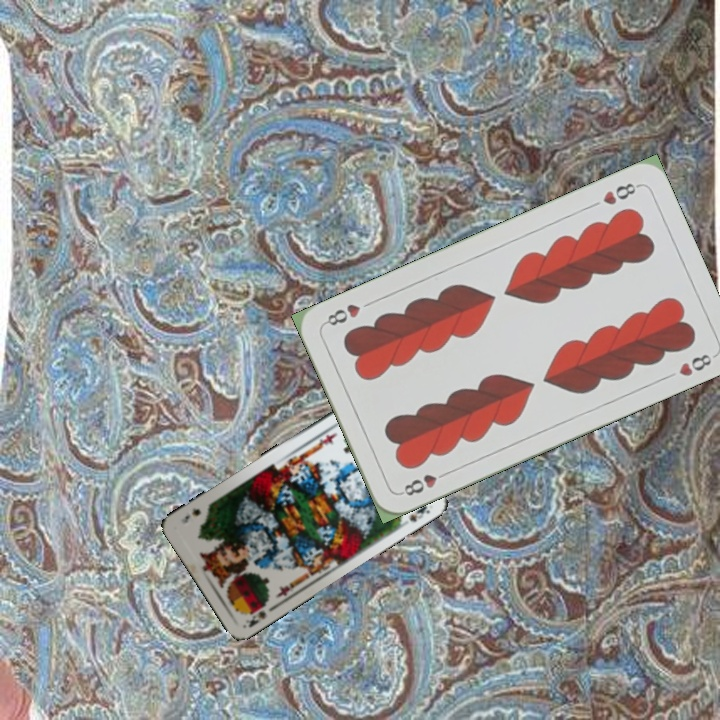H8: (396, 467, 452, 499), (598, 179, 642, 208)
SK: (241, 607, 269, 630)
